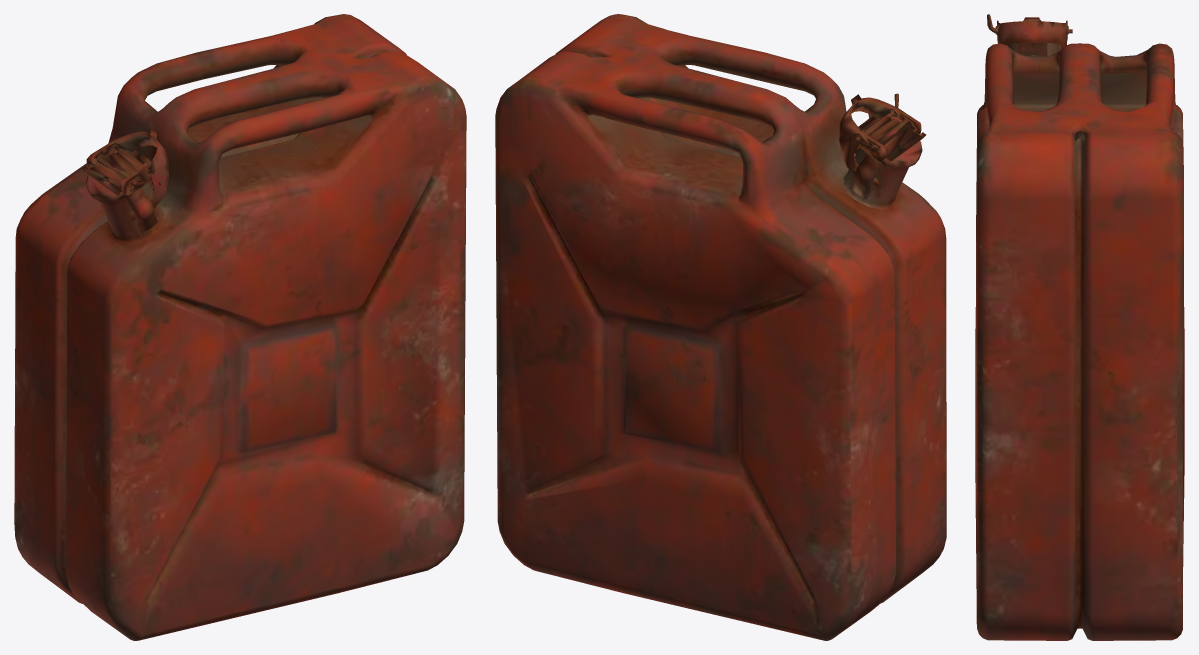
Rendered from metal_jerrycan.glb.
3 views of the same model, side by side, from view 1: azimuth 30°, elevation 25°; view 2: azimuth 150°, elevation 25°; view 3: azimuth 270°, elevation 25° (orthographic). The views are drawn at different scales.
Visible parts, largest first — view 1: metal_jerrycan; view 2: metal_jerrycan; view 3: metal_jerrycan.
Part boxes in pixels (<box>): metal_jerrycan: <box>14,14,466,640</box>; metal_jerrycan: <box>495,14,946,640</box>; metal_jerrycan: <box>975,14,1184,640</box>.
Size of the model in its own units: 0.3501 by 0.4549 by 0.1718.
1 material, 1 textured.
